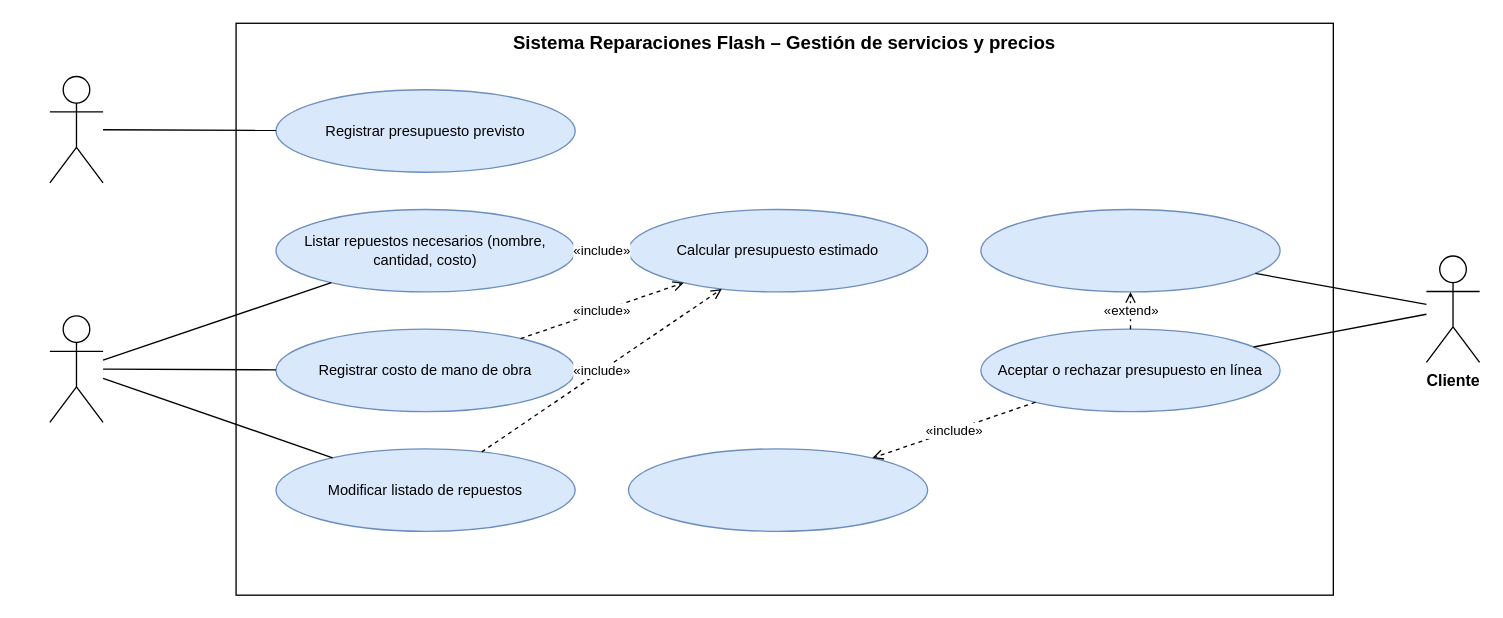
Some shapes in this 1503 by 618 pixel diagram are drawn without their labels. Each missing label, with the box of its shape:
Consultar presupuesto estimado: (980, 208, 1280, 292)
Recepcionista: (49, 75, 103, 183)
Técnico: (49, 315, 103, 422)
Verificar si el costo supera el presupuesto previsto: (627, 448, 928, 531)
